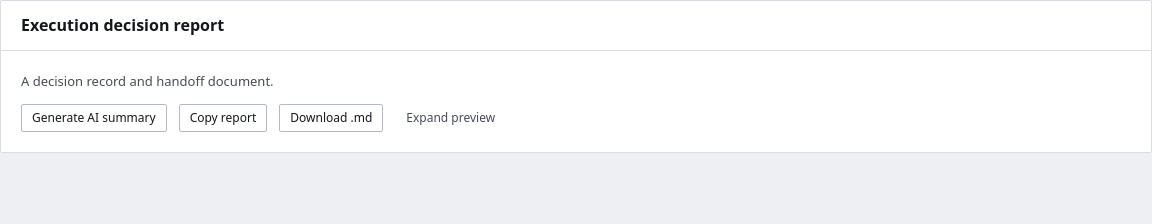
Scenario: ActionReportWorkspace › AI error typing — distinct copy per HTTP status, not one folded message › 404 run_not_found
The image size is (1152, 224).
Click the button "Generate AI summary" at [94, 118], box x1=21 y1=104 x2=167 y2=132
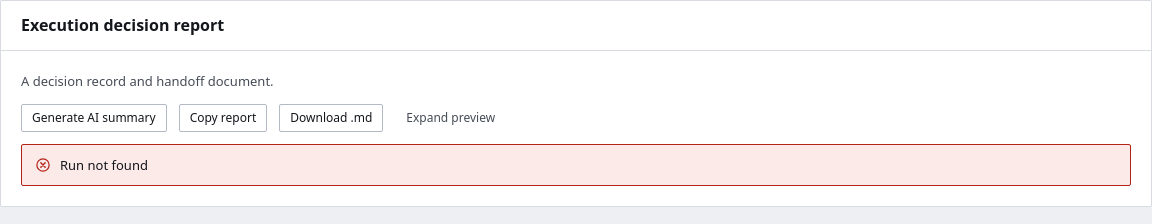
Expected: the text "Run not found" is shown, x1=60 y1=155 x2=148 y2=175
